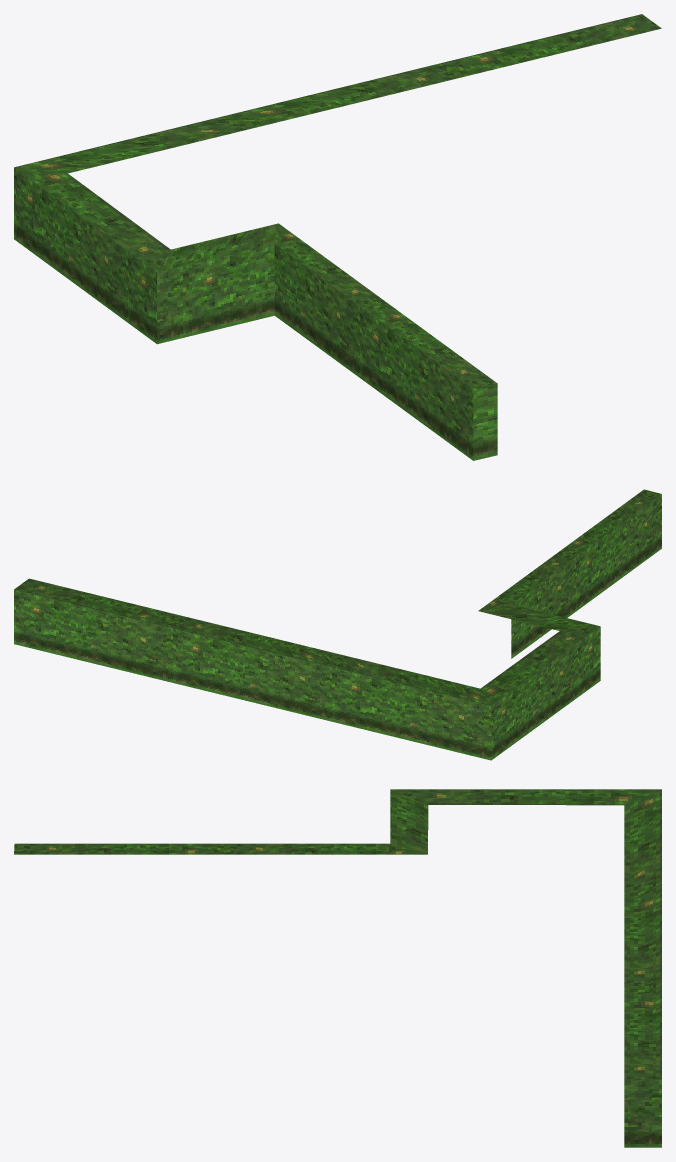
File: bushes02.glb
3 views of the same model, one above another, from view 1: azimuth 30°, elevation 25°; view 2: azimuth 150°, elevation 25°; view 3: azimuth 270°, elevation 25° (orthographic). The views are drawn at different scales.
Visible parts, largest first — view 1: bushes02; view 2: bushes02; view 3: bushes02.
Boxes of the visible parts, <box> form: bushes02: <box>14,14,661,460</box>; bushes02: <box>14,489,661,760</box>; bushes02: <box>14,789,661,1147</box>.
Size of the model in its own units: 1689 by 185 by 1593.
Materials: 1 (1 with a texture image).
